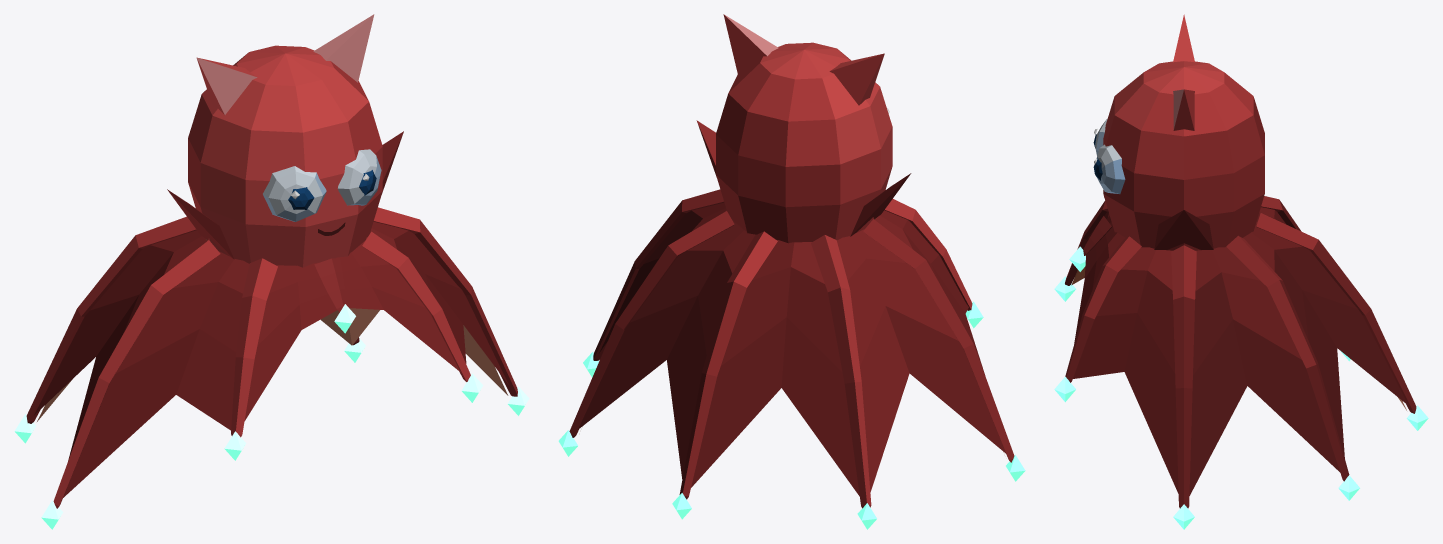
File: squid.glb
3 renders of one model, left to right at view 1: azimuth 30°, elevation 25°; view 2: azimuth 150°, elevation 25°; view 3: azimuth 270°, elevation 25°, orthographic. The views are drawn at different scales.
Parts seen in each view (by area): view 1: cape, head, arms, eye-l, lining, ear-l, ear-r, eye-r, collar; view 2: cape, head, arms, ear-l, ear-r, collar; view 3: cape, head, arms, collar, eye-r, ear-r, ear-l.
Boxes of the visible parts, x1,y1,x2,y2 form: cape: (34, 221, 508, 497); head: (188, 45, 382, 267); arms: (14, 207, 529, 529); eye-l: (263, 166, 326, 221); lining: (37, 239, 508, 421); ear-l: (196, 57, 257, 114); ear-r: (313, 14, 374, 82); eye-r: (337, 149, 381, 205); collar: (167, 131, 403, 259); cape: (578, 203, 1006, 495); head: (716, 42, 892, 243); arms: (558, 189, 1025, 529); ear-l: (829, 53, 884, 105); ear-r: (723, 14, 778, 75); collar: (696, 120, 911, 236); cape: (1073, 207, 1408, 495); head: (1103, 61, 1264, 250); arms: (1054, 196, 1428, 529); collar: (1154, 210, 1213, 249); eye-r: (1093, 144, 1125, 193); ear-r: (1173, 89, 1194, 130); ear-l: (1173, 14, 1194, 62).
Bounding box in the file's own units: 5.76 × 4.93 × 4.41.
